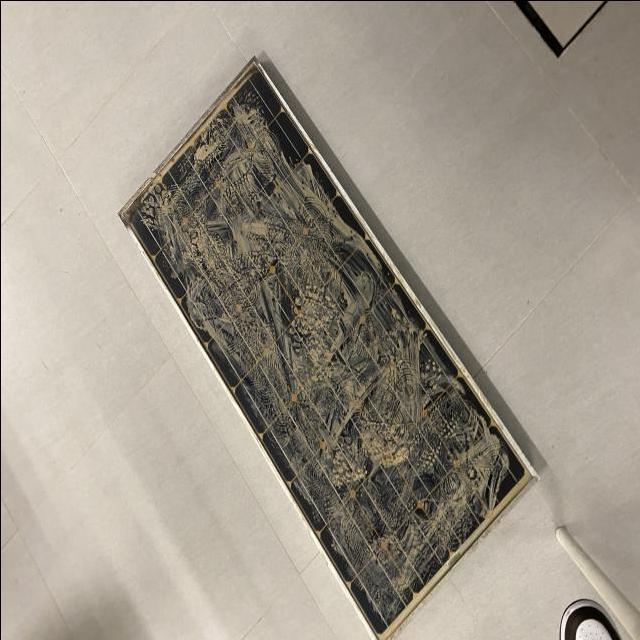Dusty: (130, 82, 525, 636)
